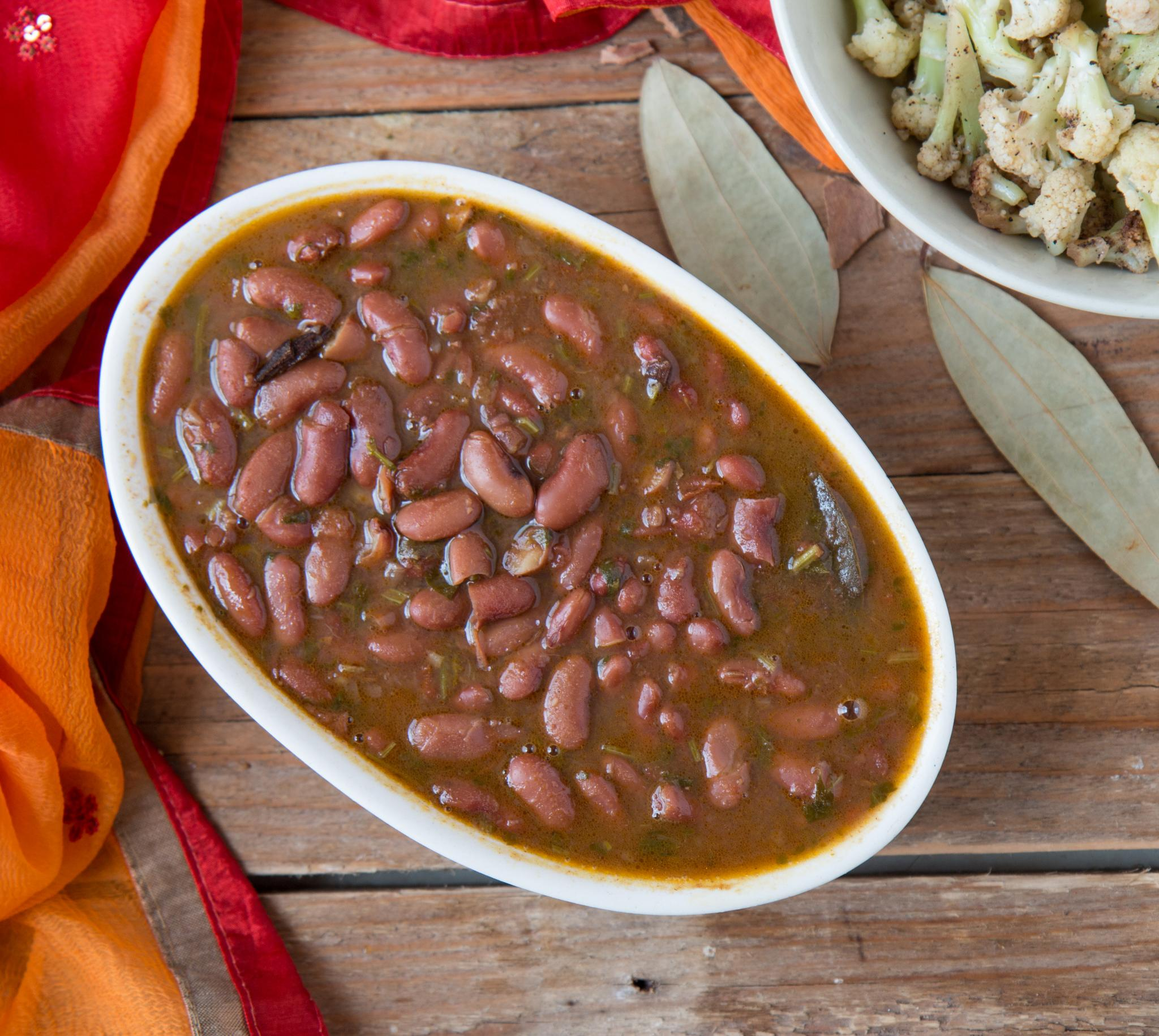rajma: (153, 196, 892, 923)
